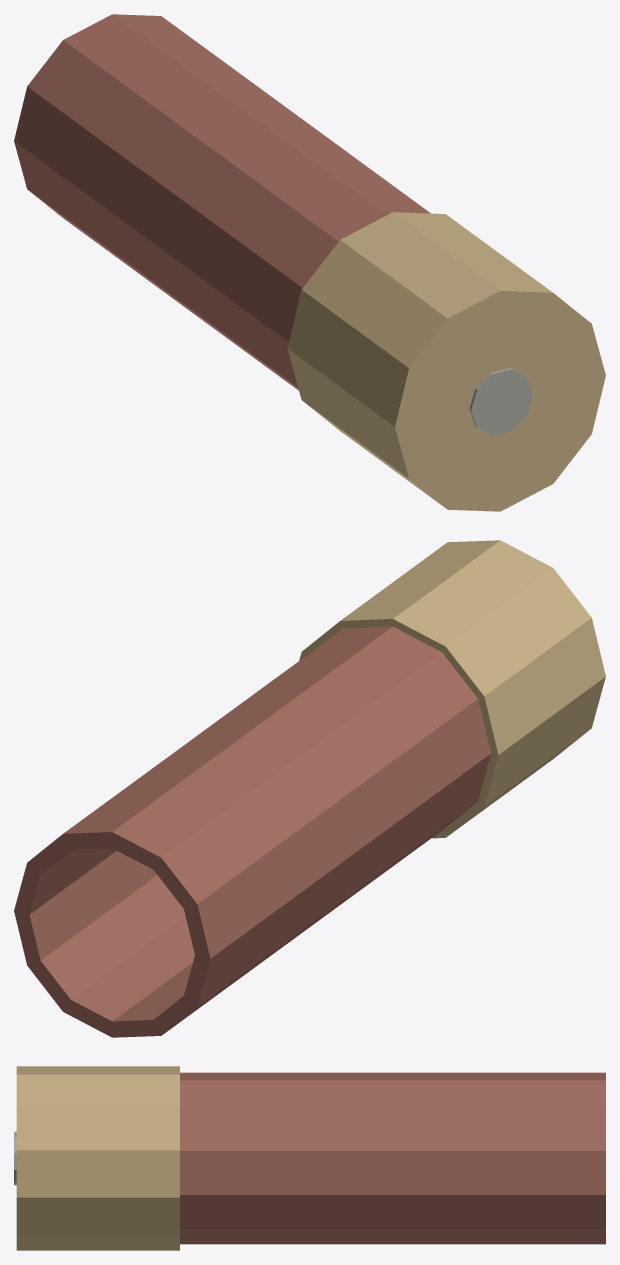
File: SpentShell.fbx
3 renders of one model, top to bottom at view 1: azimuth 30°, elevation 25°; view 2: azimuth 150°, elevation 25°; view 3: azimuth 270°, elevation 25°, orthographic. The views are drawn at different scales.
Parts seen in each view (by area): view 1: Body__Shell.001, Body__Brass.001, Body__WornSteel.002; view 2: Body__Shell.001, Body__Brass.001; view 3: Body__Shell.001, Body__Brass.001.
Part boxes in pixels (bbox=[...]): Body__Shell.001: bbox=[14, 14, 430, 390]; Body__Brass.001: bbox=[287, 212, 605, 511]; Body__WornSteel.002: bbox=[469, 368, 533, 435]; Body__Shell.001: bbox=[14, 626, 491, 1037]; Body__Brass.001: bbox=[299, 540, 605, 838]; Body__Shell.001: bbox=[180, 1072, 605, 1244]; Body__Brass.001: bbox=[16, 1066, 179, 1250].
Size of the model in its own units: 0.0204 by 0.0204 by 0.0653.
